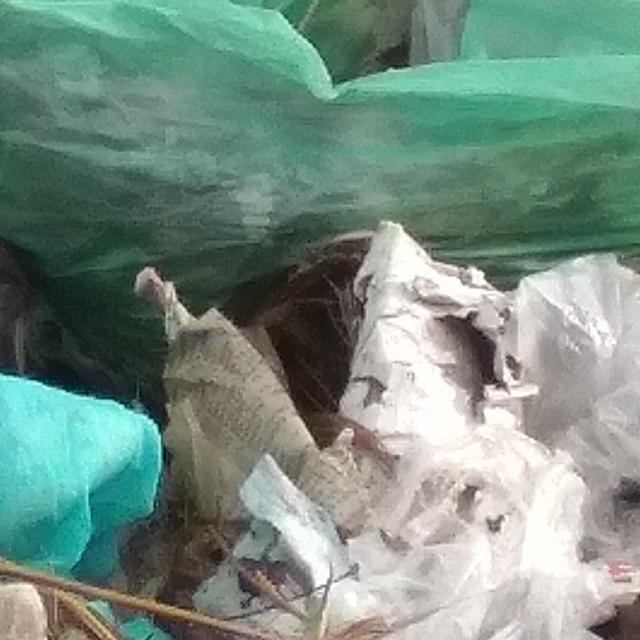paper: (0, 319, 191, 593)
plastic: (0, 0, 640, 383)
